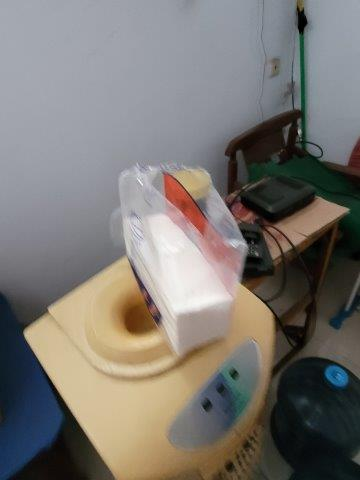plastik: (108, 167, 249, 301)
